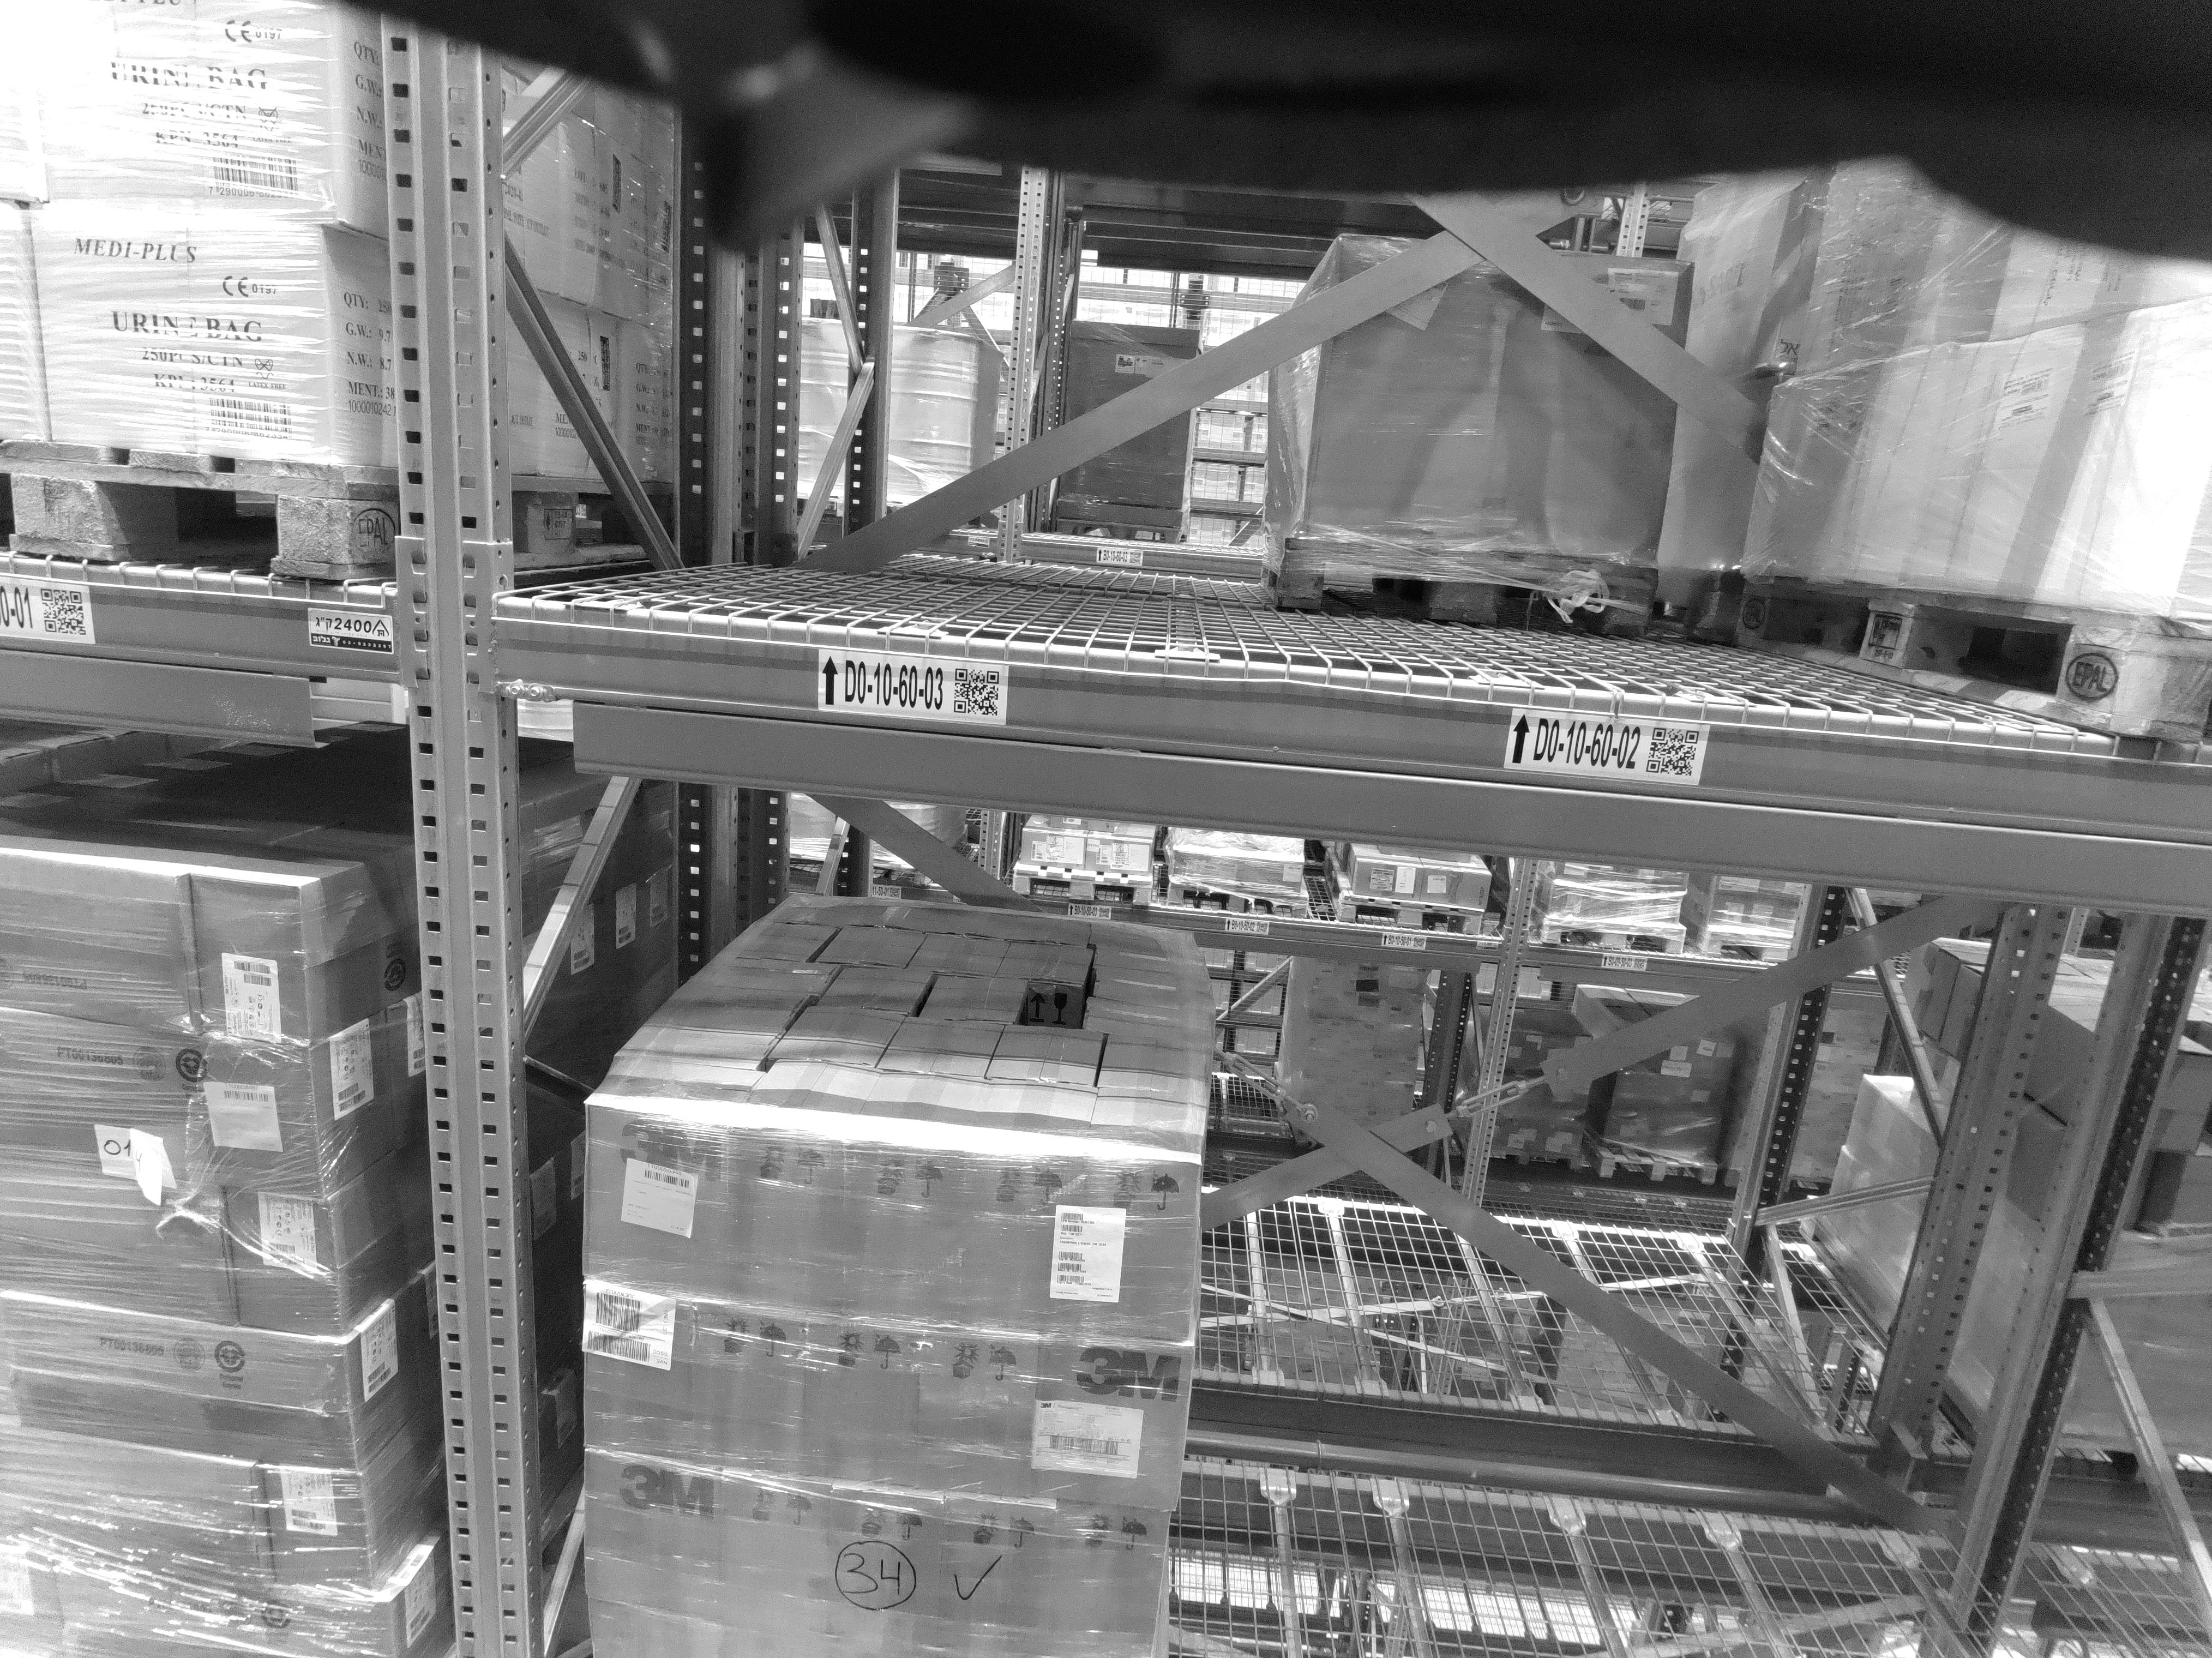empty-shelf: (1259, 954, 1925, 1653), (714, 117, 1183, 608), (1460, 226, 1822, 671)
